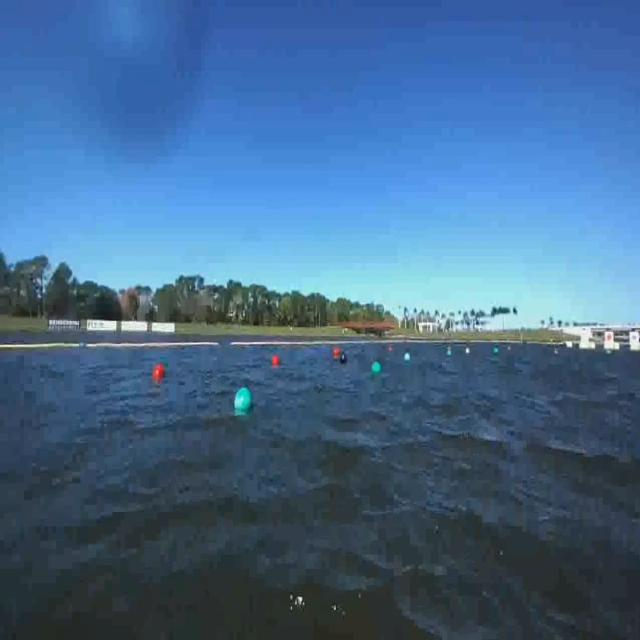black-buoy: (342, 355, 348, 365)
green-buoy: (234, 390, 252, 416), (374, 361, 382, 373), (406, 352, 412, 363)
red-buoy: (152, 363, 165, 382), (273, 355, 281, 367), (335, 347, 342, 357)
